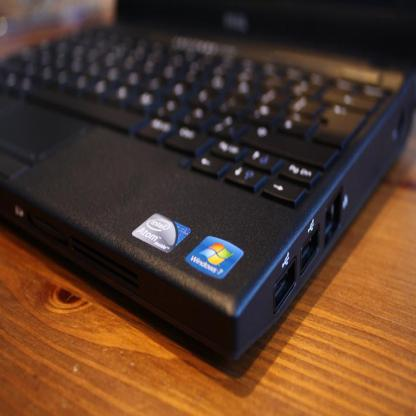board: (2, 6, 416, 378)
